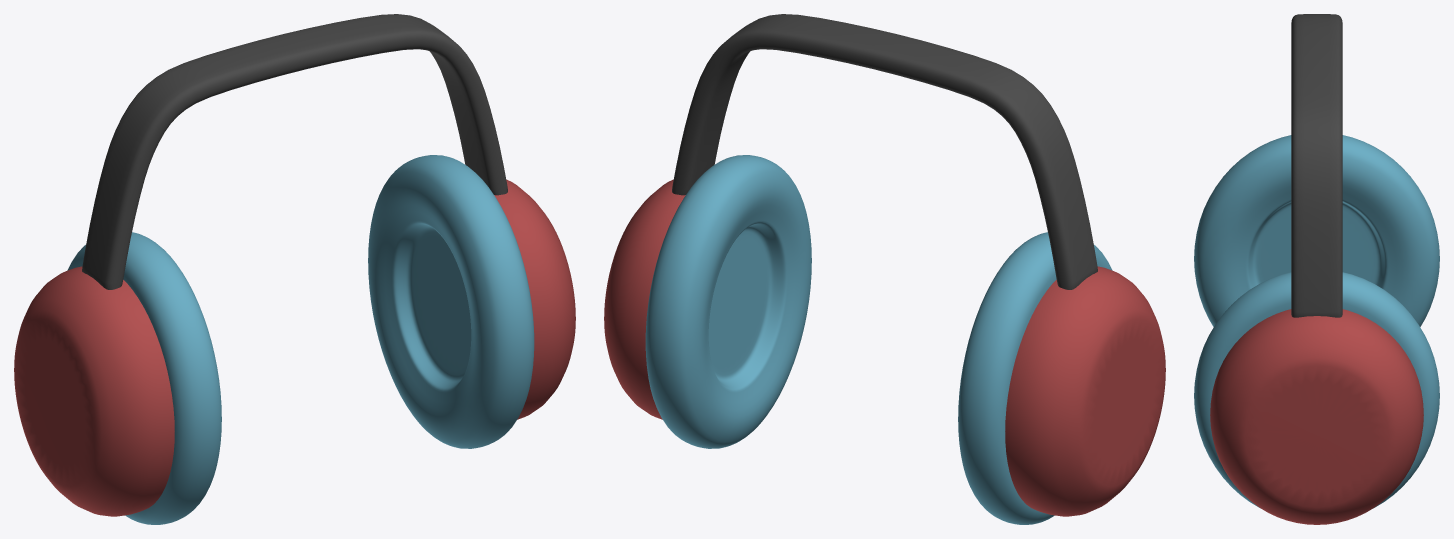
The model's file is headphone.gltf.
The picture shows the model from 3 angles, left to right: view 1: azimuth 30°, elevation 25°; view 2: azimuth 150°, elevation 25°; view 3: azimuth 270°, elevation 25°; orthographic projection. The views are drawn at different scales.
Visible parts, largest first — view 1: Headphone Part; view 2: Headphone Part; view 3: Headphone Part.
Boxes of the visible parts, x1=… form: Headphone Part: x1=14, y1=14, x2=575, y2=524; Headphone Part: x1=604, y1=14, x2=1165, y2=524; Headphone Part: x1=1194, y1=14, x2=1439, y2=524.
Bounding box in the file's own units: 1.38 × 1.2 × 0.6802.
Materials: 2 (2 with a texture image).
